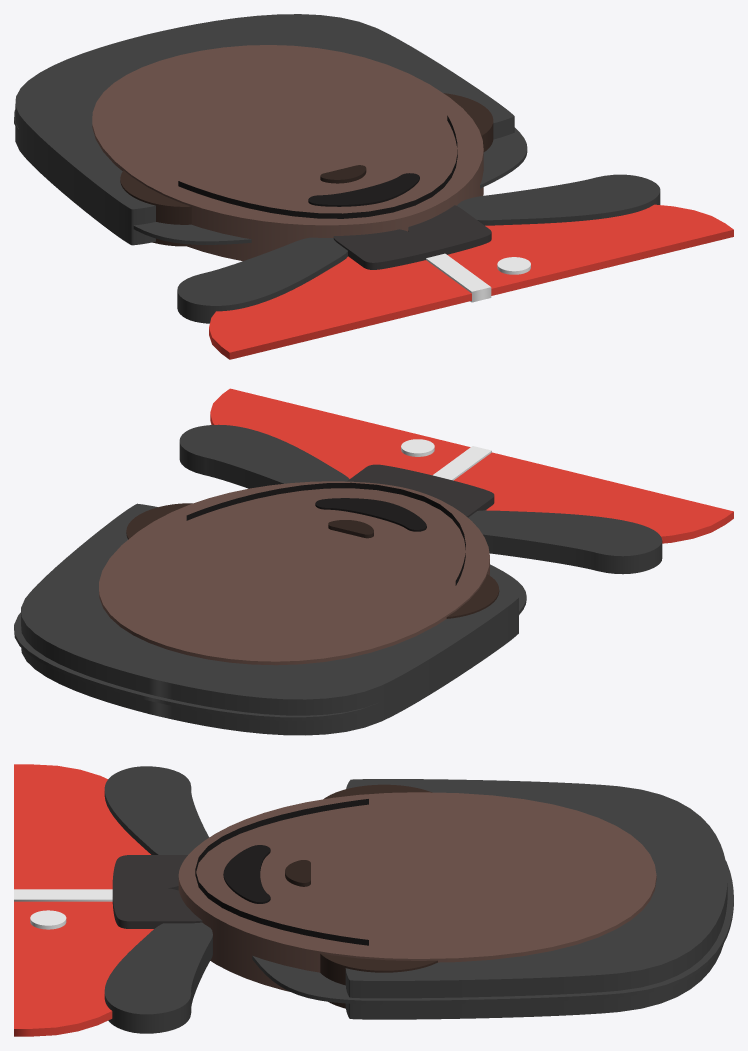
File: emoji_u1f482_1f3ff_200d_2642.glb
3 views of the same model, one above another, from view 1: azimuth 30°, elevation 25°; view 2: azimuth 150°, elevation 25°; view 3: azimuth 270°, elevation 25° (orthographic). The views are drawn at different scales.
Visible parts, largest first — view 1: emoji_u1f482_1f3ff_200d_2642; view 2: emoji_u1f482_1f3ff_200d_2642; view 3: emoji_u1f482_1f3ff_200d_2642.
Boxes of the visible parts, box(x1,y1,x2,y2) form: emoji_u1f482_1f3ff_200d_2642: box(14, 14, 733, 359); emoji_u1f482_1f3ff_200d_2642: box(14, 388, 733, 735); emoji_u1f482_1f3ff_200d_2642: box(14, 764, 733, 1036).
Size of the model in its own units: 0.0293 by 0.003 by 0.0337.
